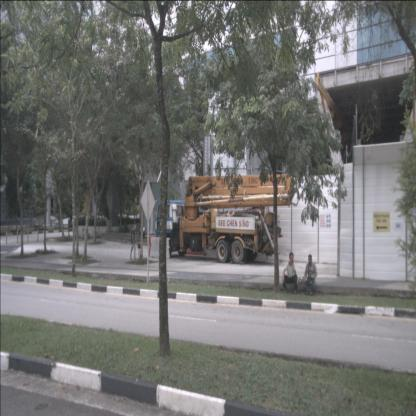barrier: (150, 236, 171, 260)
